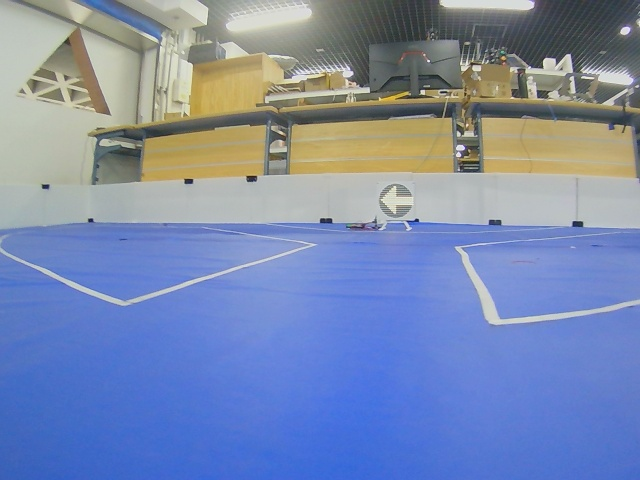left_yellow: (378, 181, 415, 220)
